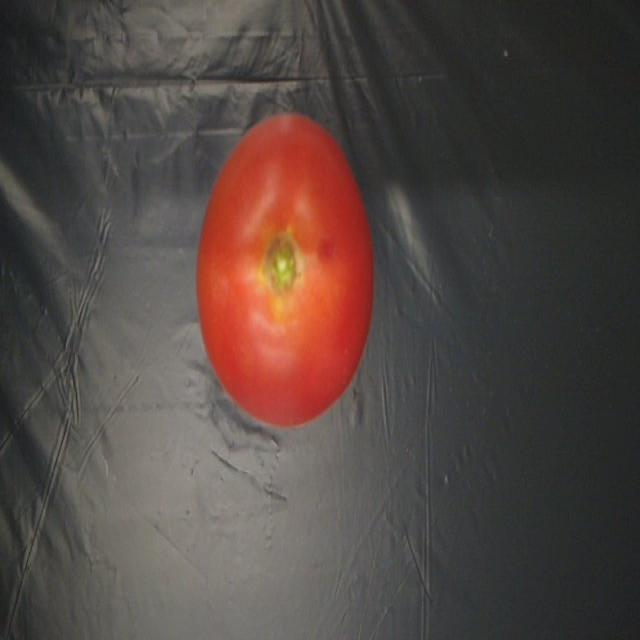kirmizi: (193, 126, 391, 432)
